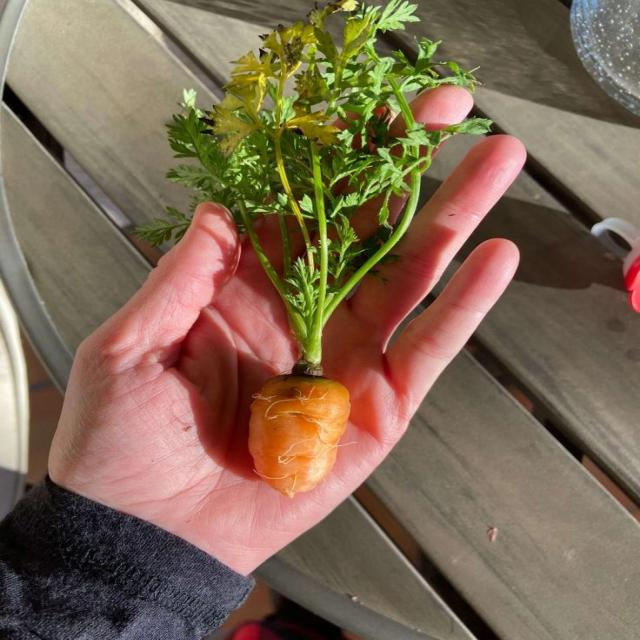carrot: (168, 0, 490, 495), (249, 375, 349, 497)
